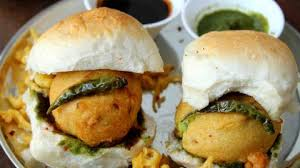vada pav: (32, 13, 132, 160), (195, 36, 283, 167)
